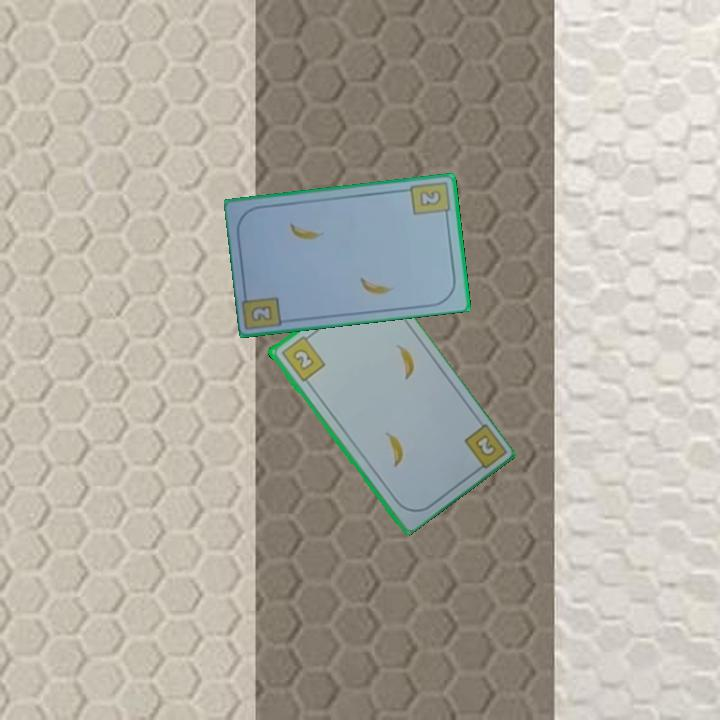2b: (277, 330, 328, 384), (460, 420, 507, 477), (407, 178, 452, 222), (247, 302, 276, 324)
